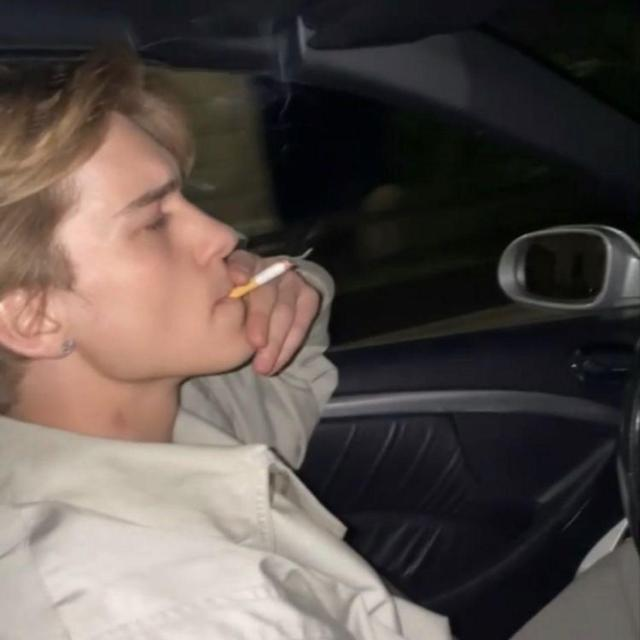cigarette: (216, 253, 310, 312)
